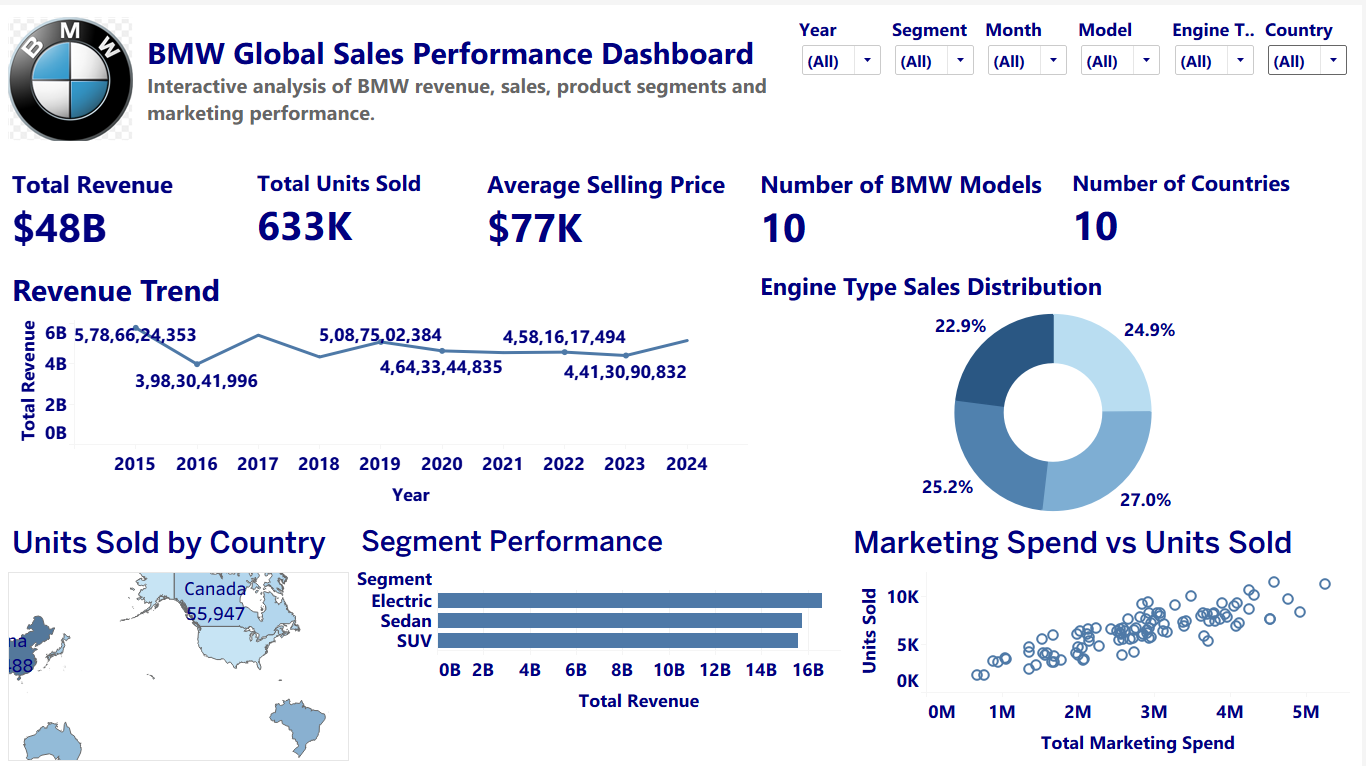

The dashboard page shown, as its layout file describes it:
{"tool":"tableau","page":{"name":"Dashboard 1","canvas":[1366,768],"ordinal":0},"visuals":[{"type":"image","param":"C:/Users/Girish/Pictures/Screenshot 2026-07-05 152350.png","box":[8,8,135,132]},{"type":"text","box":[143,8,656,132]},{"type":"filter","title":"Revenue Trend","param":"[federated.0kco9i904rt4u210v79a61xfc3l1].[none:year:ok]","box":[799,8,93.2,132]},{"type":"filter","title":"Revenue Trend","param":"[federated.0kco9i904rt4u210v79a61xfc3l1].[none:segment:nk]","box":[892.2,8,93.2,132]},{"type":"filter","title":"Revenue Trend","param":"[federated.0kco9i904rt4u210v79a61xfc3l1].[none:month:ok]","box":[985.3,8,93.2,132]},{"type":"filter","title":"Revenue Trend","param":"[federated.0kco9i904rt4u210v79a61xfc3l1].[none:model:nk]","box":[1078.5,8,93.2,132]},{"type":"filter","title":"Revenue Trend","param":"[federated.0kco9i904rt4u210v79a61xfc3l1].[none:engine_type:nk]","box":[1171.6,8,93.2,132]},{"type":"filter","title":"Revenue Trend","param":"[federated.0kco9i904rt4u210v79a61xfc3l1].[none:country:nk]","box":[1264.8,8,93.2,132]},{"type":"worksheet","title":"Total Revenue","mark":"Text","box":[8,140,245,116]},{"type":"worksheet","title":"Total Unit Sold","mark":"Text","box":[253,140,230,116]},{"type":"worksheet","title":"Average Selling Price","mark":"Text","box":[483,140,273,116]},{"type":"worksheet","title":"Number of BMW Models","mark":"Text","box":[756,140,312,116]},{"type":"worksheet","title":"Number of Countries","mark":"Text","box":[1068,140,290,116]},{"type":"worksheet","title":"Revenue Trend","mark":"Automatic","rows":["Calculation_0951922045341697"],"cols":["year"],"box":[8,256,748,256]},{"type":"worksheet","title":"Engine Type Sales Distribution","mark":"Pie","rows":["Calculation_0951922068774920","Calculation_0951922068774920"],"cols":["Calculation_0951922068774920"],"box":[756,256,602,256]},{"type":"worksheet","title":"Units Sold by Country","mark":"Multipolygon","box":[8,512,349,248]},{"type":"worksheet","title":"Segment Performance","mark":"Automatic","rows":["segment"],"cols":["Calculation_0951922045341697"],"box":[357,512,492.5,248]},{"type":"worksheet","title":"Marketing Spend vs Units Sold","mark":"Automatic","rows":["units_sold"],"cols":["Calculation_0951922046009348"],"box":[849.5,512,508.5,248]}]}

Visuals, with their boxes in screenshot pixels (x1, y1, x2, y2), scaled from the page's 1366x768 canvas onto the 1366x766 screenshot:
image: rect(8, 8, 143, 140)
text: rect(143, 8, 799, 140)
"Revenue Trend" filter: rect(799, 8, 892, 140)
"Revenue Trend" filter: rect(892, 8, 985, 140)
"Revenue Trend" filter: rect(985, 8, 1078, 140)
"Revenue Trend" filter: rect(1078, 8, 1172, 140)
"Revenue Trend" filter: rect(1172, 8, 1265, 140)
"Revenue Trend" filter: rect(1265, 8, 1358, 140)
"Total Revenue" worksheet (Text marks): rect(8, 140, 253, 255)
"Total Unit Sold" worksheet (Text marks): rect(253, 140, 483, 255)
"Average Selling Price" worksheet (Text marks): rect(483, 140, 756, 255)
"Number of BMW Models" worksheet (Text marks): rect(756, 140, 1068, 255)
"Number of Countries" worksheet (Text marks): rect(1068, 140, 1358, 255)
"Revenue Trend" worksheet: rect(8, 255, 756, 511)
"Engine Type Sales Distribution" worksheet (Pie marks): rect(756, 255, 1358, 511)
"Units Sold by Country" worksheet (Multipolygon marks): rect(8, 511, 357, 758)
"Segment Performance" worksheet: rect(357, 511, 850, 758)
"Marketing Spend vs Units Sold" worksheet: rect(850, 511, 1358, 758)
